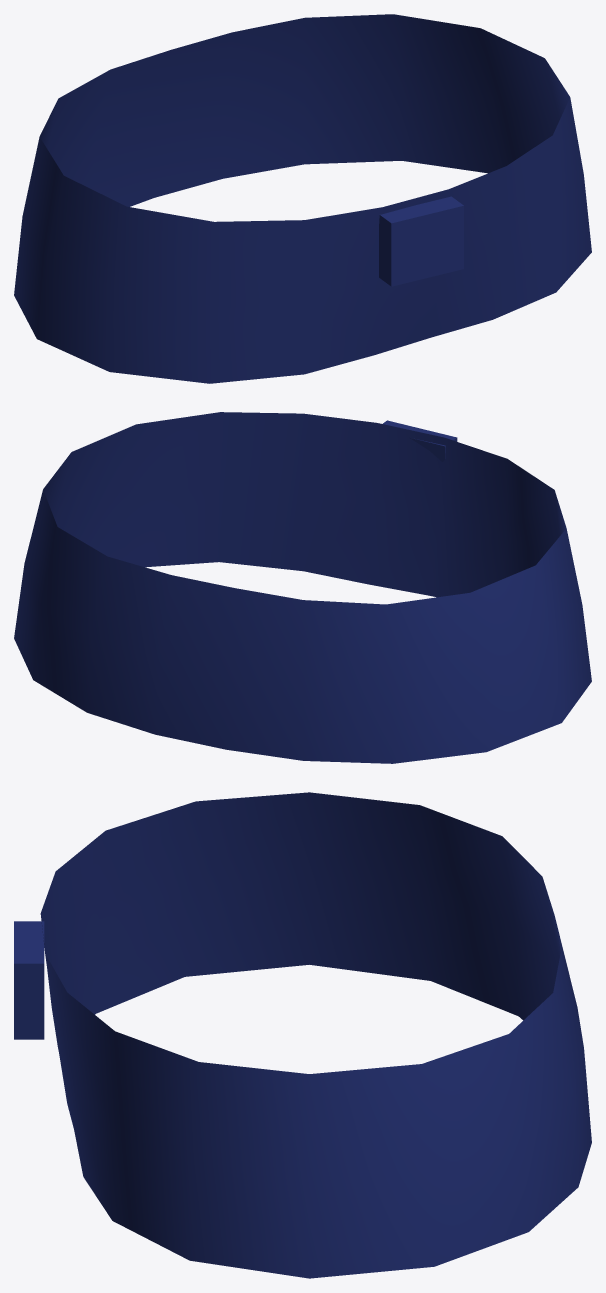
File: shroomite_armor_belt.glb
3 renders of one model, top to bottom at view 1: azimuth 30°, elevation 25°; view 2: azimuth 150°, elevation 25°; view 3: azimuth 270°, elevation 25°, orthographic. The views are drawn at different scales.
Parts seen in each view (by area): view 1: shroomite_armor_belt; view 2: shroomite_armor_belt; view 3: shroomite_armor_belt.
Part boxes in pixels (<box>): shroomite_armor_belt: <box>14,14,591,383</box>; shroomite_armor_belt: <box>14,412,591,763</box>; shroomite_armor_belt: <box>14,792,591,1278</box>.
Size of the model in its own units: 0.4427 by 0.1238 by 0.3446.
